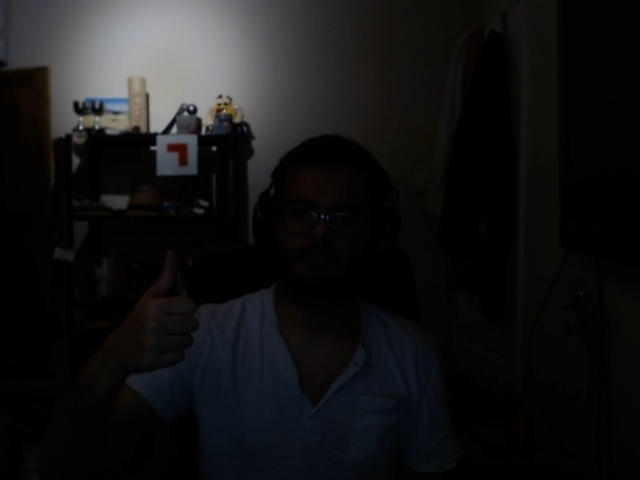Thumbs up: (108, 236, 211, 382)
